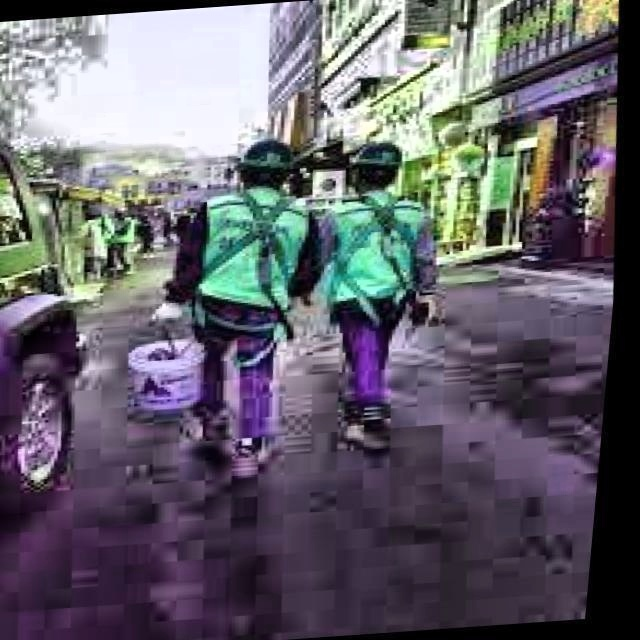safety belt: (209, 191, 295, 331), (337, 203, 421, 320)
